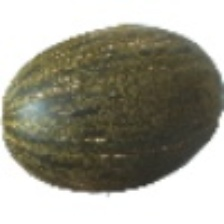honeydew: (32, 30, 217, 201)
